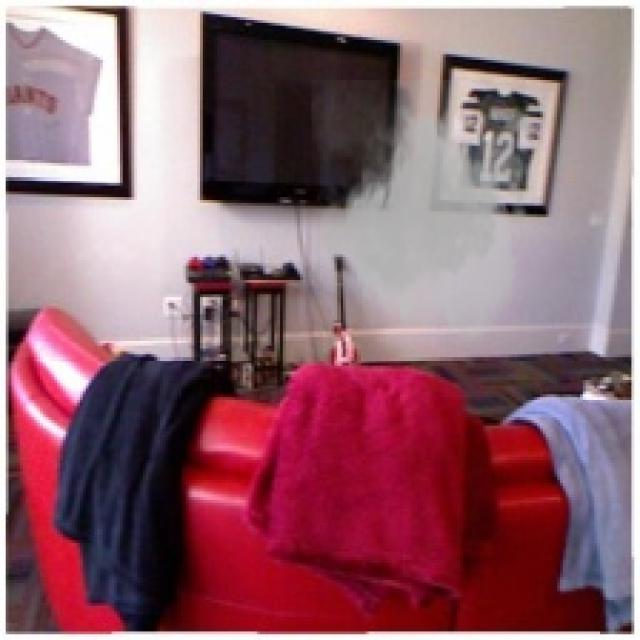smoke: (311, 80, 543, 346)
